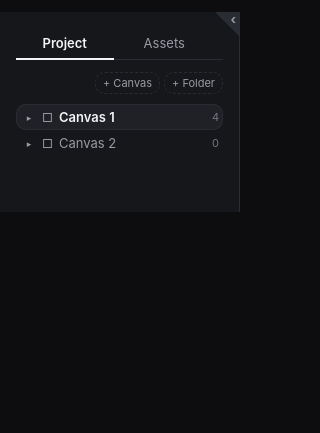
Test case: the board's shelf, one kind at a time › shows what a reader said about each file
Click the tab with test id "left-tab-assets" at (164, 44), box [116, 28, 213, 60]
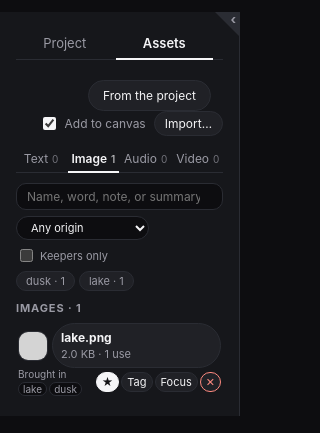
Expected: the text "lake.png" is shown, [61, 330, 112, 345]
Expected: the text "dusk" is shown, [49, 382, 82, 396]
Expected: the elements with test id "resource-where" read "Brought in", in this order, [18, 368, 66, 380]
